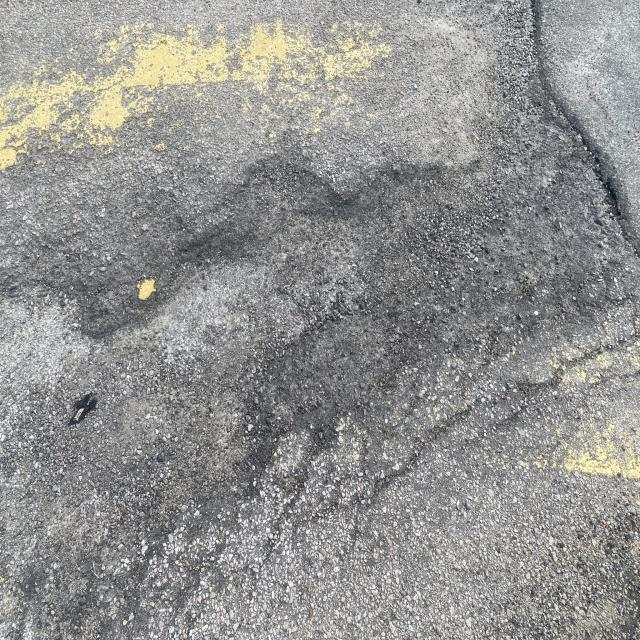Pothole: (49, 131, 386, 365), (455, 46, 640, 240)
